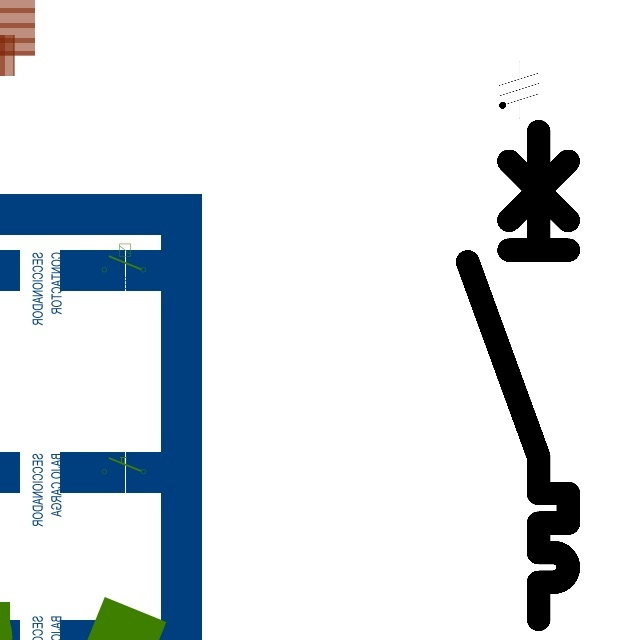interruptor_termomagnetico: (455, 119, 581, 632)
